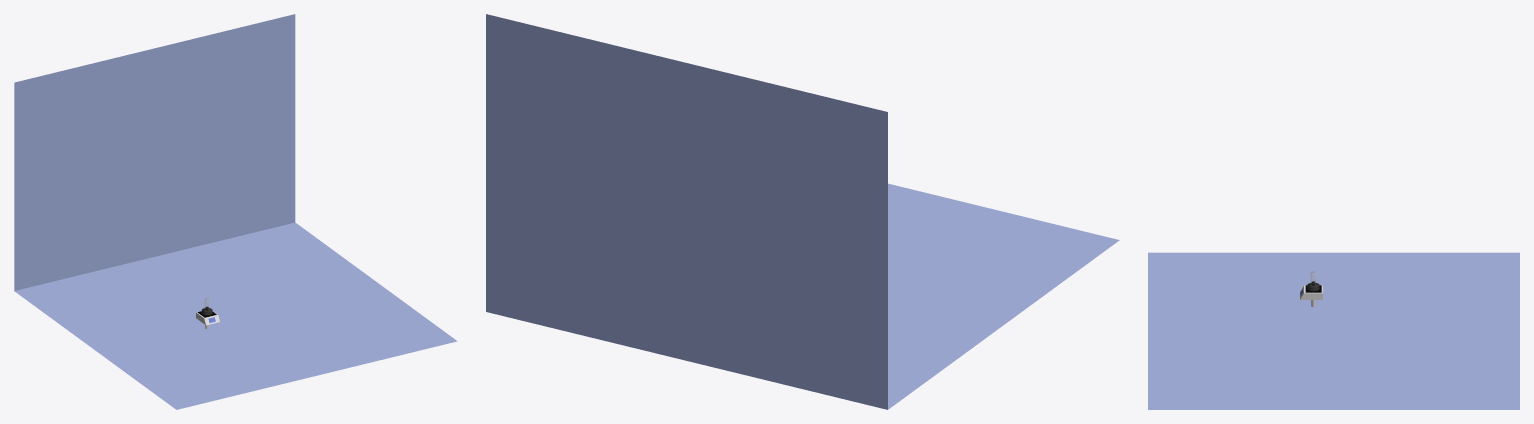
The model's file is Reksa.glb.
3 views of the same model, side by side, from view 1: azimuth 30°, elevation 25°; view 2: azimuth 150°, elevation 25°; view 3: azimuth 270°, elevation 25° (orthographic). The views are drawn at different scales.
Parts seen in each view (by area): view 1: Plane; view 2: Plane; view 3: Plane.
Boxes of the visible parts, x1=… form: Plane: x1=14, y1=14, x2=457, y2=409; Plane: x1=486, y1=14, x2=1119, y2=409; Plane: x1=1148, y1=252, x2=1519, y2=409.
Size of the model in its own units: 83.62 by 59.24 by 83.62.
